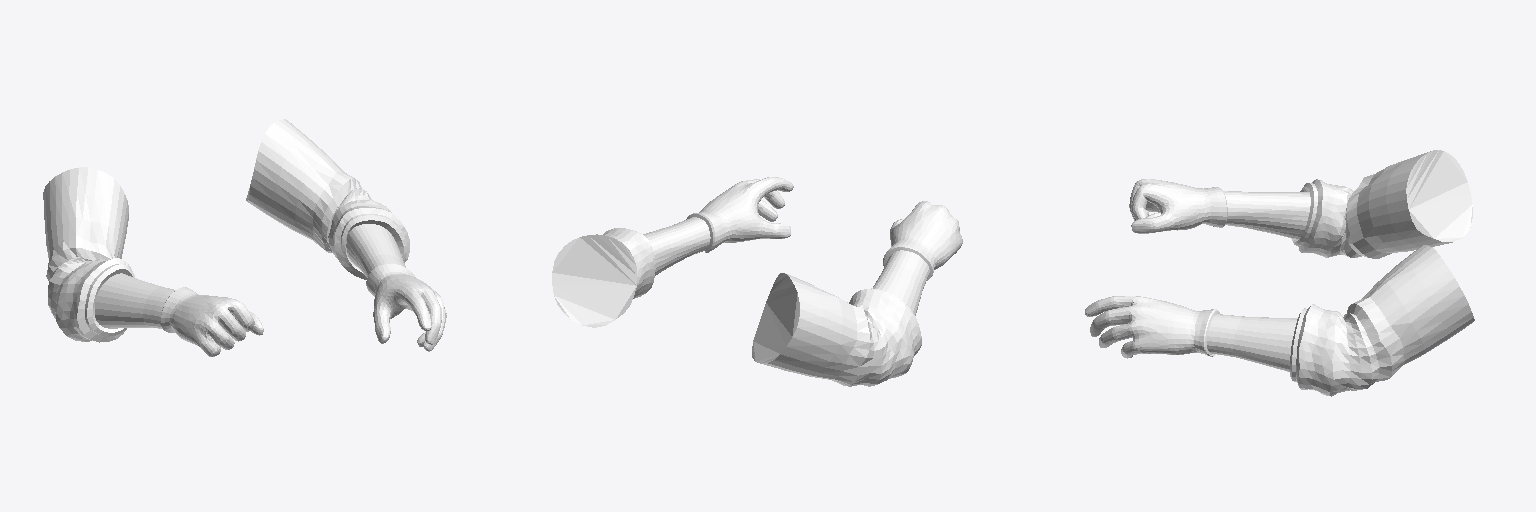
The picture shows the model from 3 angles: view 1: azimuth 30°, elevation 25°; view 2: azimuth 150°, elevation 25°; view 3: azimuth 270°, elevation 25°; orthographic projection.
Visible parts, largest first — view 1: armMesh_Mesh.001; view 2: armMesh_Mesh.001; view 3: armMesh_Mesh.001.
Part boxes in pixels (x1,y1,x2,y2): armMesh_Mesh.001: (43,119,446,356); armMesh_Mesh.001: (552,177,962,386); armMesh_Mesh.001: (1085,150,1474,396).
Bounding box in the file's own units: 216 × 82.77 × 214.